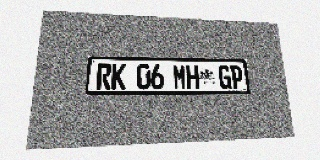0: (136, 64, 150, 89)
6: (151, 64, 164, 89)
G: (218, 65, 232, 89)
H: (186, 65, 199, 89)
K: (111, 64, 126, 89)
M: (173, 64, 186, 89)
P: (230, 65, 244, 89)
R: (96, 63, 112, 89)
